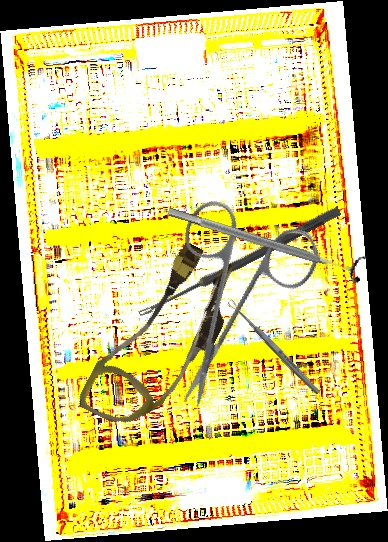Cannula: (75, 230, 250, 448)
Fixation Ring: (163, 196, 368, 286)
Iris Scissors: (113, 168, 357, 411)
Surgical Spoon: (137, 204, 342, 321), (226, 298, 322, 396)
